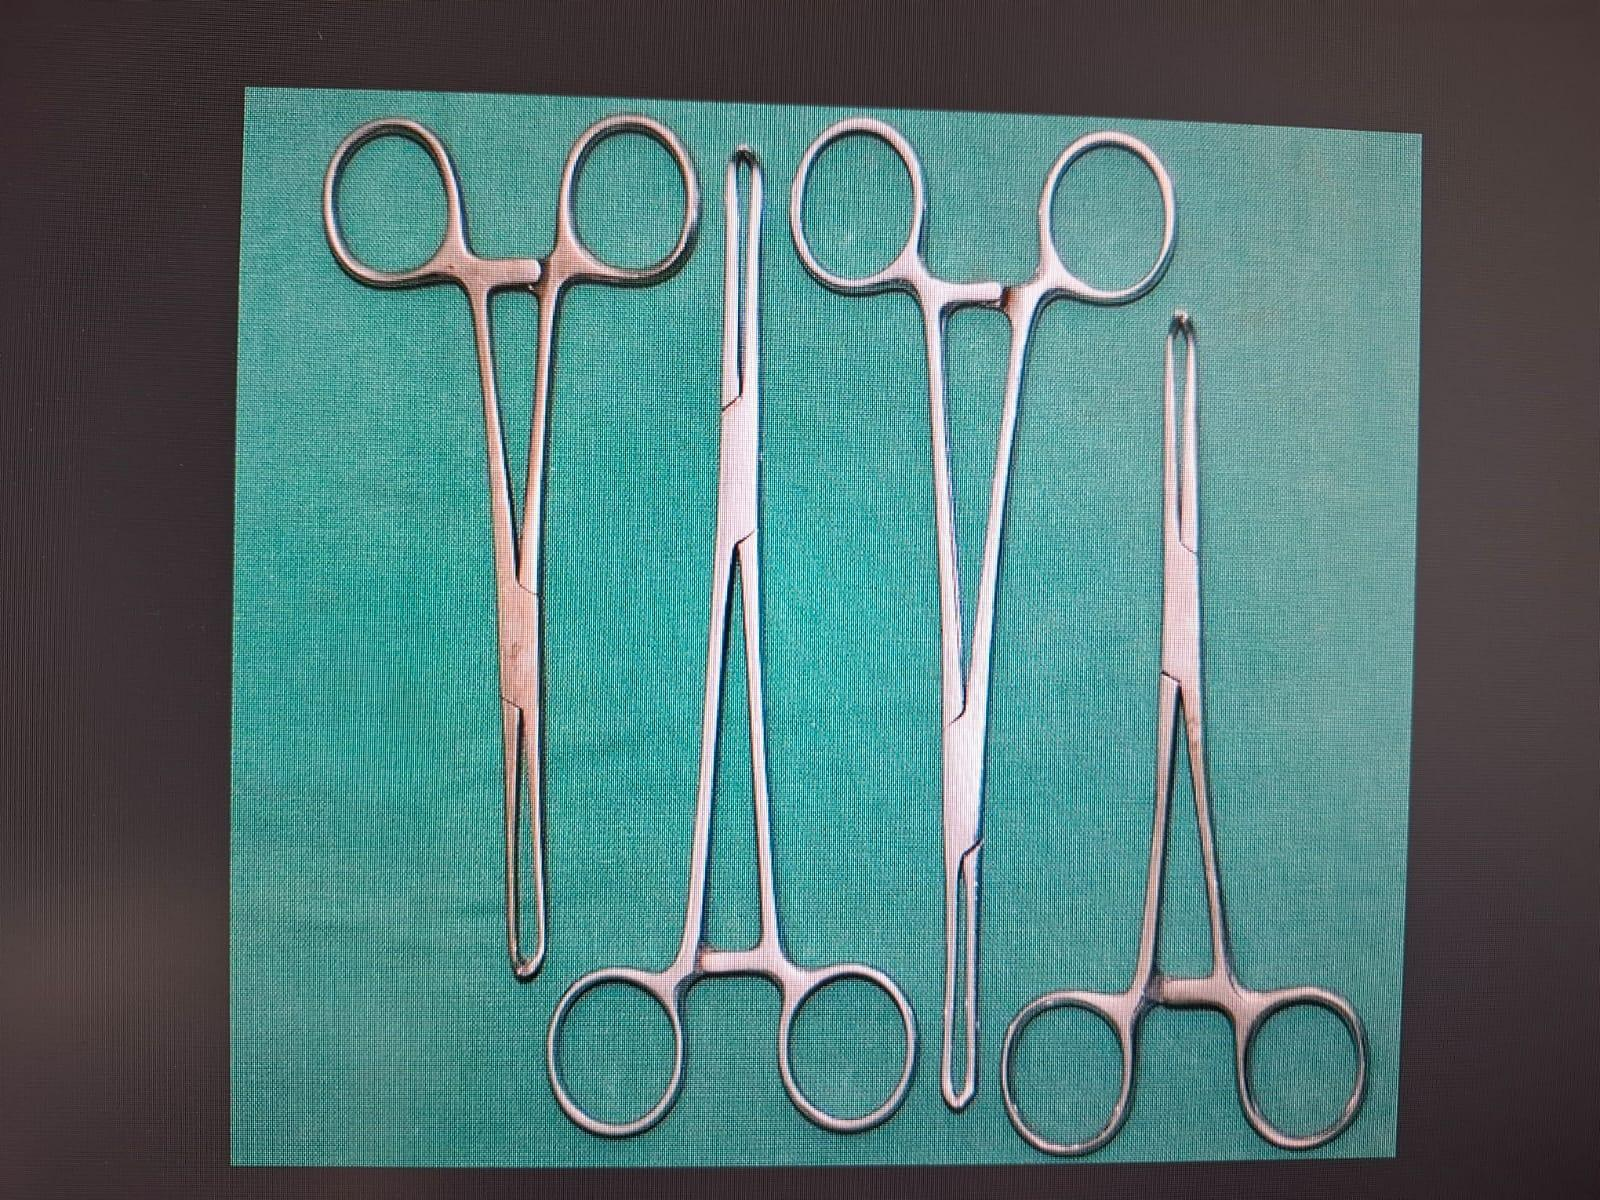Allis Forceps: (784, 112, 1180, 1112), (542, 134, 922, 1142), (312, 98, 718, 996), (990, 290, 1406, 1163)
